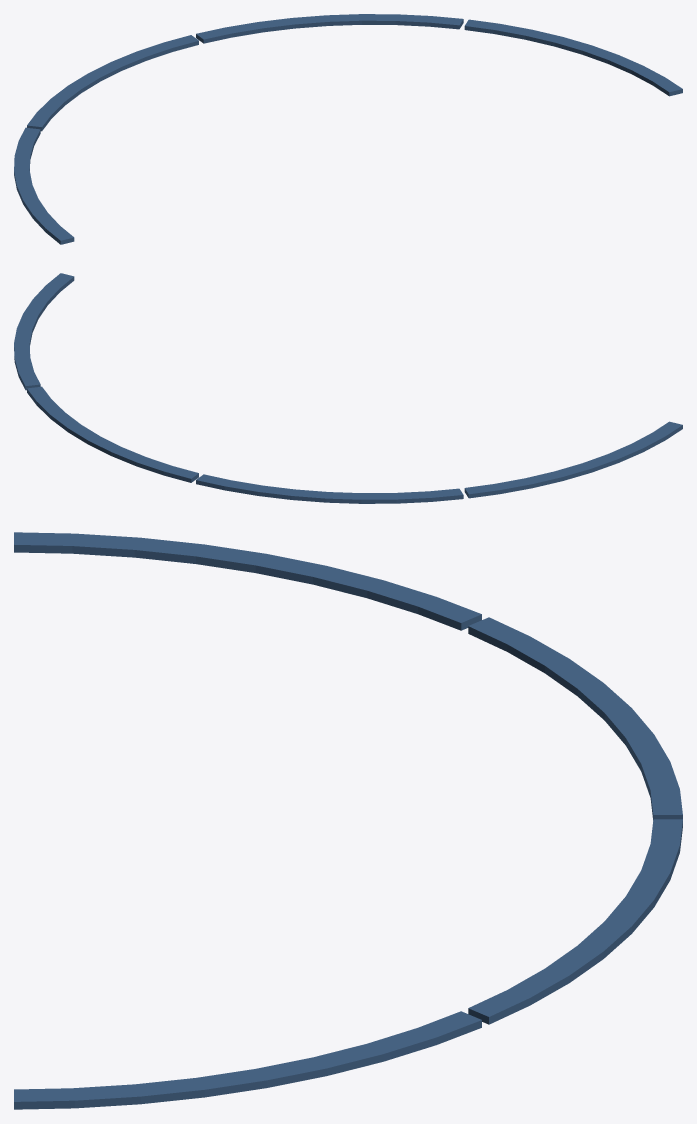
The model's file is menu_outerRing.fbx.
3 renders of one model, top to bottom at view 1: azimuth 30°, elevation 25°; view 2: azimuth 150°, elevation 25°; view 3: azimuth 270°, elevation 25°, orthographic. The views are drawn at different scales.
Visible parts, largest first — view 1: Circle.007, Circle.010, Circle.008, Circle.006; view 2: Circle.008, Circle.006, Circle.007, Circle.010; view 3: Circle.010, Circle.006, Circle.007, Circle.008.
Part boxes in pixels (bbox=[...]): Circle.007: bbox=[196, 14, 463, 43]; Circle.010: bbox=[464, 19, 682, 96]; Circle.008: bbox=[27, 35, 198, 131]; Circle.006: bbox=[14, 127, 74, 244]; Circle.008: bbox=[196, 474, 463, 503]; Circle.006: bbox=[464, 421, 682, 498]; Circle.007: bbox=[27, 386, 198, 482]; Circle.010: bbox=[14, 273, 74, 390]; Circle.010: bbox=[14, 1011, 481, 1109]; Circle.006: bbox=[14, 532, 481, 630]; Circle.007: bbox=[468, 819, 682, 1024]; Circle.008: bbox=[468, 617, 682, 820].
Size of the model in its own units: 45.42 by 0.2866 by 22.54.
